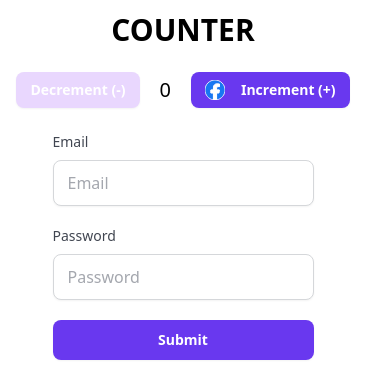
increment and decrement the count
Click the button "Increment (+)". click: (270,90)
box: [191,72,350,108]
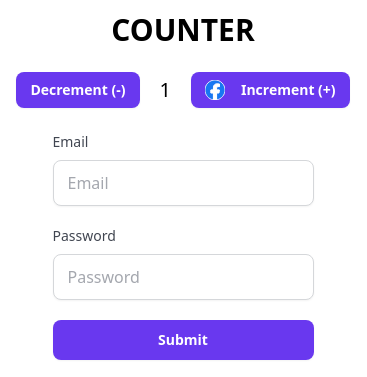
Result: the text with test id "counter-value" reads "1" at [160,76,171,103]
Click the button "Decrement (-)". click: (78,90)
box: [16,72,140,108]
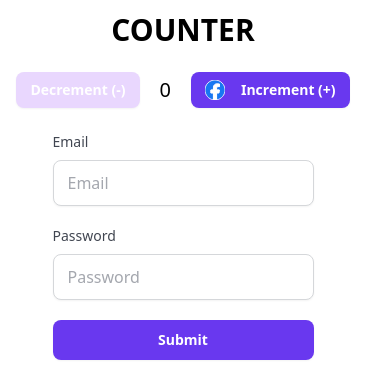
Result: the text with test id "counter-value" reads "0" at [160,76,171,103]
